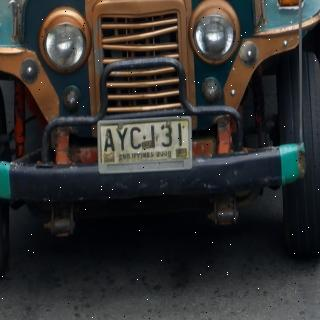license: (99, 118, 194, 174)
